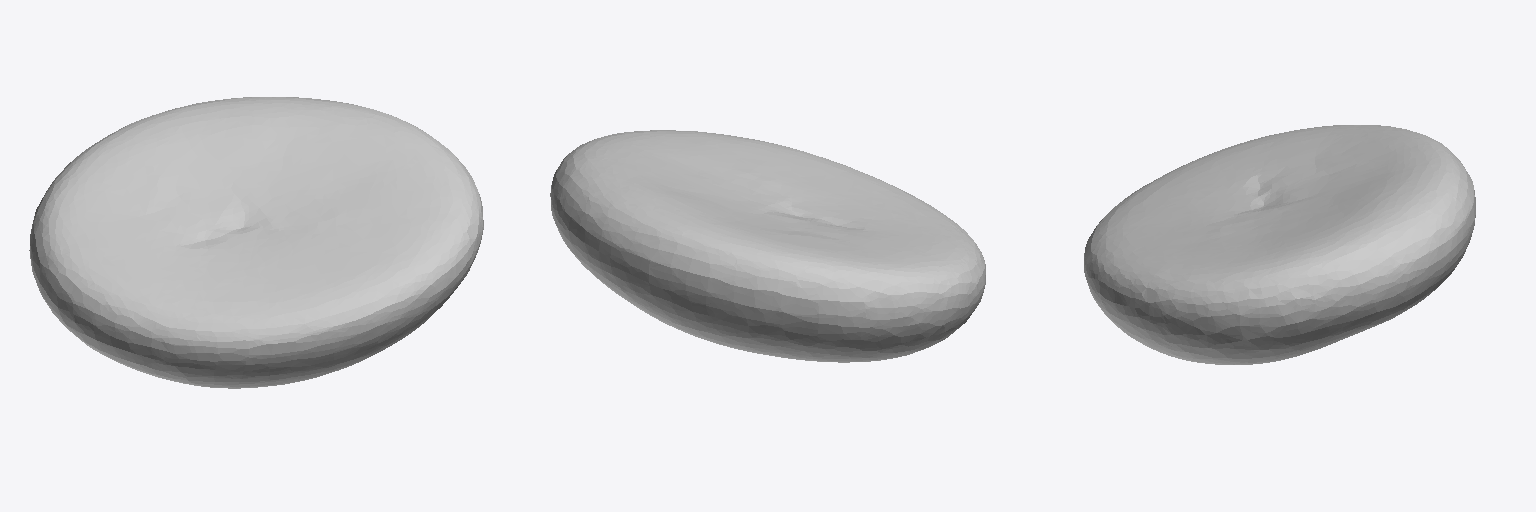
File: Faça_um_modelo_3d_de_0614193621_texture.obj
3 renders of one model, left to right at view 1: azimuth 30°, elevation 25°; view 2: azimuth 150°, elevation 25°; view 3: azimuth 270°, elevation 25°, orthographic.
Visible parts, largest first — view 1: Faça_um_modelo_3d_de_[number redacted]_texture; view 2: Faça_um_modelo_3d_de_[number redacted]_texture; view 3: Faça_um_modelo_3d_de_[number redacted]_texture.
Part boxes in pixels (x1,y1,x2,y2): Faça_um_modelo_3d_de_[number redacted]_texture: (29,97,483,388); Faça_um_modelo_3d_de_[number redacted]_texture: (550,130,985,362); Faça_um_modelo_3d_de_[number redacted]_texture: (1084,125,1475,364).
Size of the model in its own units: 2 by 0.8453 by 1.7.